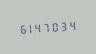four: (35, 20, 43, 34), (71, 18, 79, 31)
one: (26, 21, 34, 34)
seven: (44, 20, 52, 33)
six: (17, 22, 25, 35)
three: (62, 18, 70, 32)
zero: (53, 19, 61, 33)
